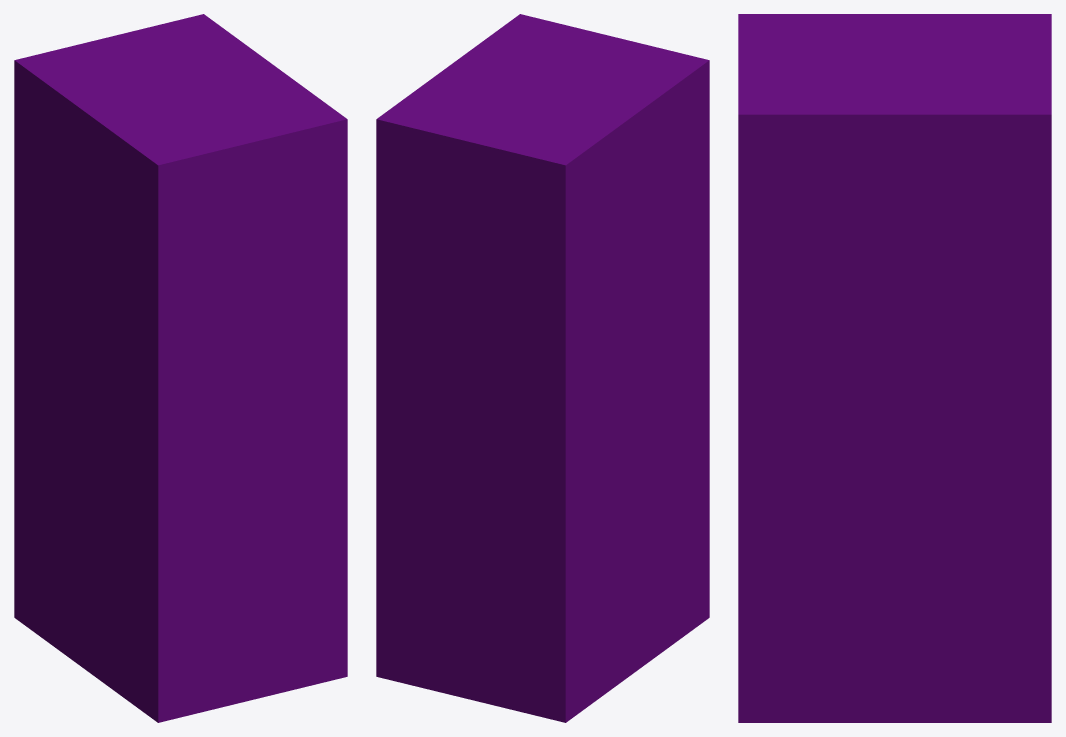
The model's file is pier_piece_busted_posts.DAE.
3 views of the same model, side by side, from view 1: azimuth 30°, elevation 25°; view 2: azimuth 150°, elevation 25°; view 3: azimuth 270°, elevation 25° (orthographic). The views are drawn at different scales.
Visible parts, largest first — view 1: bounds; view 2: bounds; view 3: bounds.
Boxes of the visible parts, x1,y1,x2,y2 form: bounds: [14, 14, 347, 722]; bounds: [376, 14, 709, 722]; bounds: [738, 14, 1051, 722].
Size of the model in its own units: 5.78 by 7.6 by 16.26.
